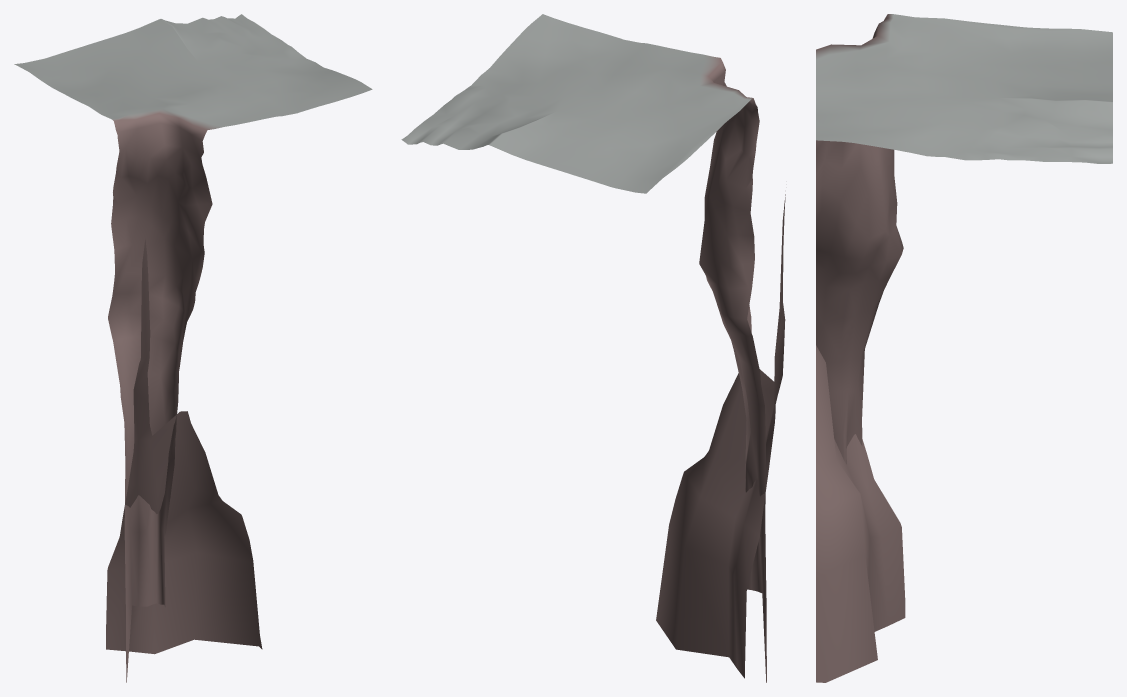
The picture shows the model from 3 angles, left to right: view 1: azimuth 30°, elevation 25°; view 2: azimuth 150°, elevation 25°; view 3: azimuth 270°, elevation 25°; orthographic projection. The views are drawn at different scales.
Visible parts, largest first — view 1: G:\FFXIV-MapTools\exports\u5f1\bg\ex4\04_uvs_u5\fld\u5f1\bgp (×5); view 2: G:\FFXIV-MapTools\exports\u5f1\bg\ex4\04_uvs_u5\fld\u5f1\bgp (×5); view 3: G:\FFXIV-MapTools\exports\u5f1\bg\ex4\04_uvs_u5\fld\u5f1\bgp (×5).
Part boxes in pixels (<box>): G:\FFXIV-MapTools\exports\u5f1\bg\ex4\04_uvs_u5\fld\u5f1\bgp (×5): <box>14,14,372,682</box>; G:\FFXIV-MapTools\exports\u5f1\bg\ex4\04_uvs_u5\fld\u5f1\bgp (×5): <box>401,14,785,682</box>; G:\FFXIV-MapTools\exports\u5f1\bg\ex4\04_uvs_u5\fld\u5f1\bgp (×5): <box>816,14,1112,682</box>.
Size of the model in its own units: 128 by 298 by 128.
